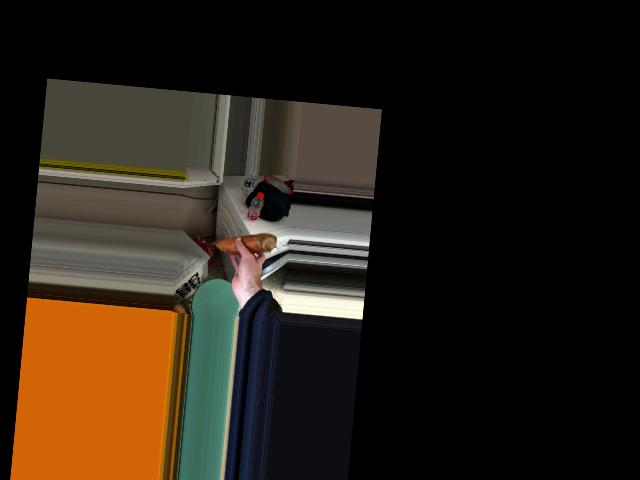sweet_potato: (212, 233, 277, 256)
